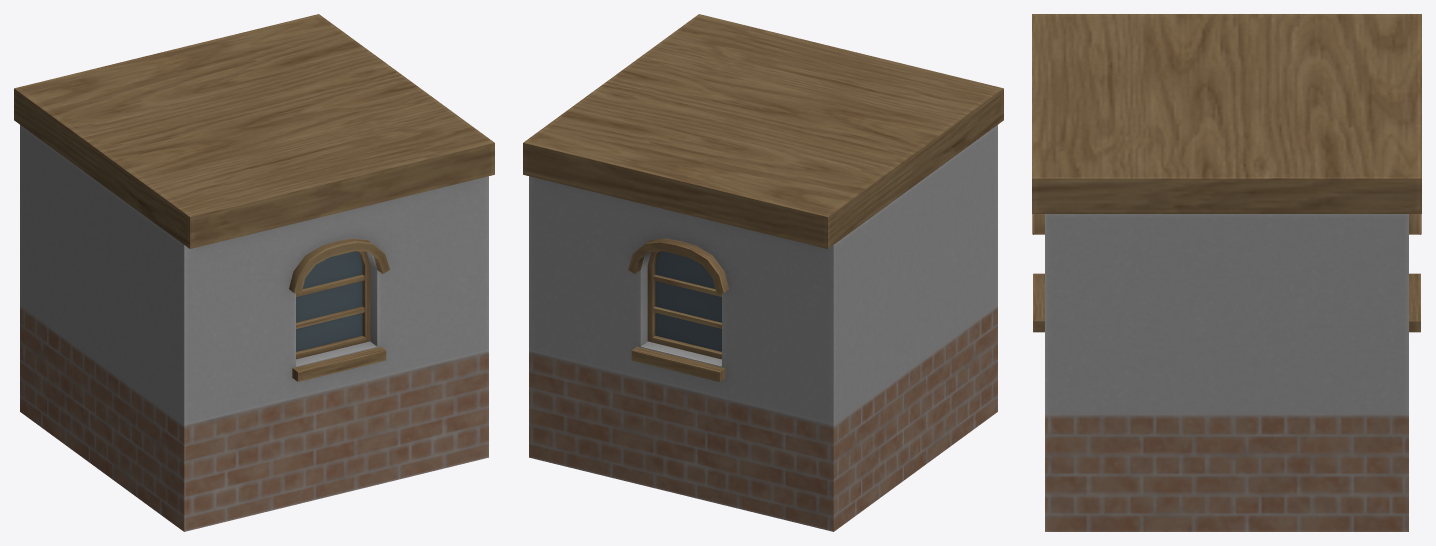
The model's file is sb_obj_outdoor028_house01_wall03.fbx.
The picture shows the model from 3 angles, left to right: view 1: azimuth 30°, elevation 25°; view 2: azimuth 150°, elevation 25°; view 3: azimuth 270°, elevation 25°; orthographic projection. The views are drawn at different scales.
Parts seen in each view (by area): view 1: sb_obj_outdoor028_house01_wall03; view 2: sb_obj_outdoor028_house01_wall03; view 3: sb_obj_outdoor028_house01_wall03.
Boxes of the visible parts, bbox=[...] form: sb_obj_outdoor028_house01_wall03: bbox=[14, 14, 494, 531]; sb_obj_outdoor028_house01_wall03: bbox=[523, 14, 1003, 531]; sb_obj_outdoor028_house01_wall03: bbox=[1032, 14, 1421, 531].
Bounding box in the file's own units: 3 × 3 × 3.
1 material, 1 textured.
